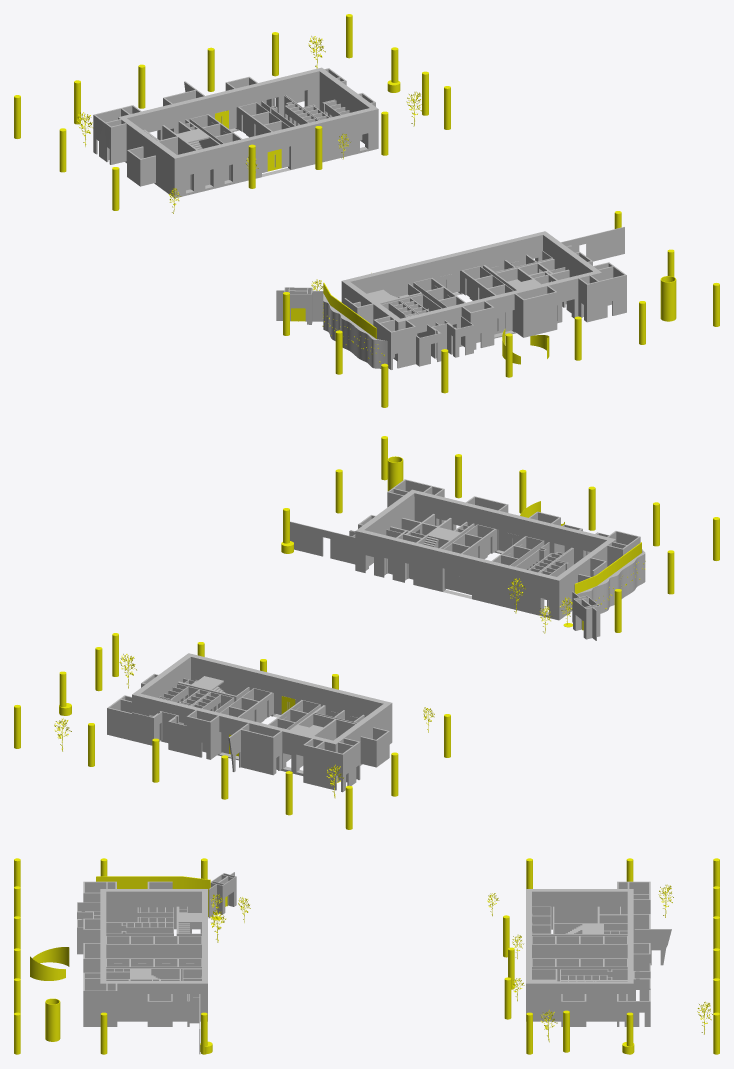
The model's file is sm_hana_building_8f_in.glb.
3 renders of one model, top to bottom at view 1: azimuth 30°, elevation 25°; view 2: azimuth 150°, elevation 25°; view 3: azimuth 270°, elevation 25°, orthographic. The views are drawn at different scales.
Parts seen in each view (by area): view 1: sm_hana_building_8f_in; view 2: sm_hana_building_8f_in; view 3: sm_hana_building_8f_in.
Boxes of the visible parts, x1,y1,x2,y2 form: sm_hana_building_8f_in: (14, 14, 719, 407); sm_hana_building_8f_in: (14, 436, 719, 829); sm_hana_building_8f_in: (14, 858, 719, 1054).
Size of the model in its own units: 49.04 by 6 by 92.88.
8 materials, 6 textured.
